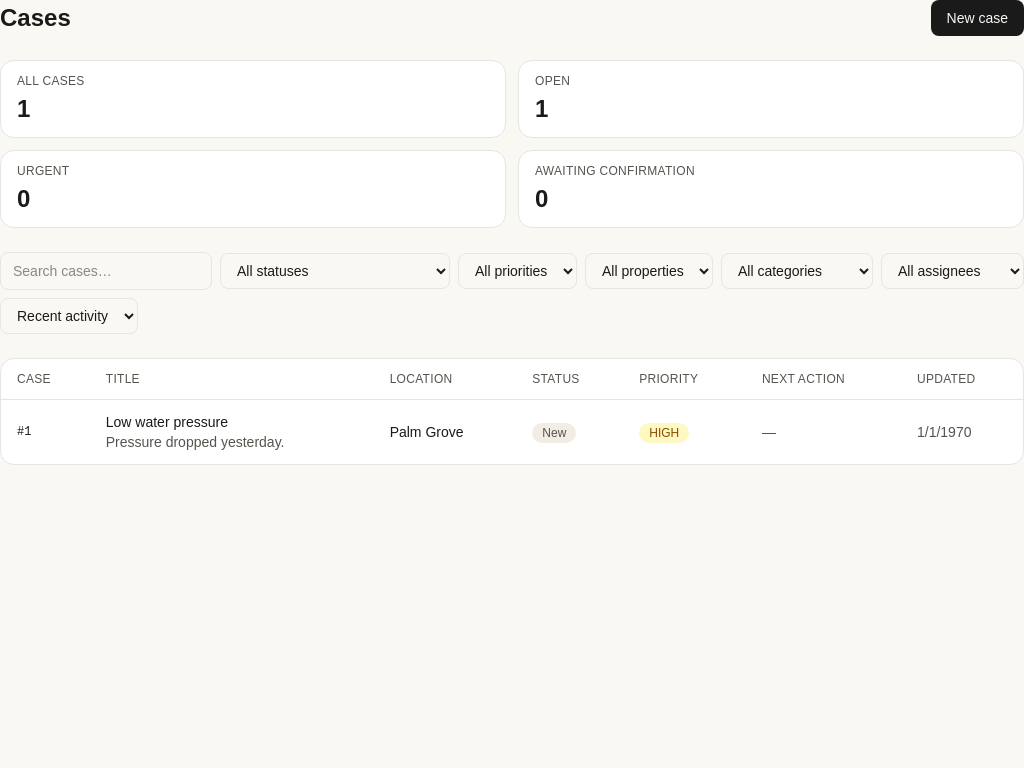
Test: CasesPage › opens the new-case dialog
Step 1. Click the button "New case" → (977, 18), box left=930, top=0, right=1023, bottom=36
(page scrolled)
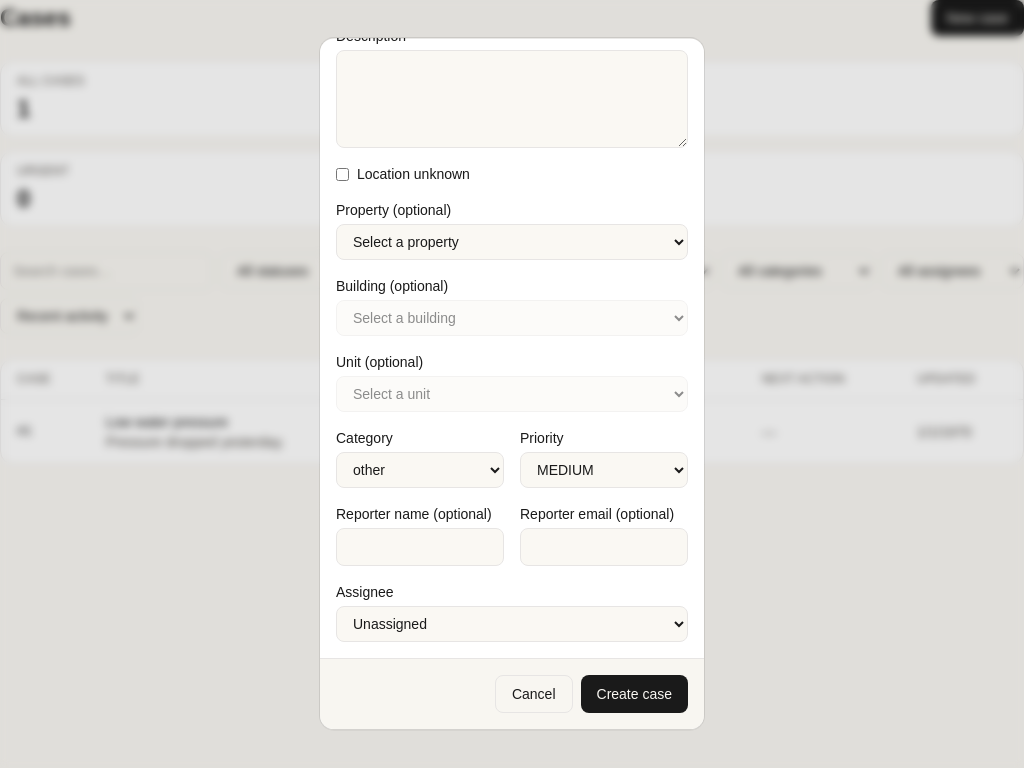
Check: the dialog is shown, box left=320, top=38, right=704, bottom=730
Check: the button "Create case" is shown, box left=580, top=675, right=688, bottom=713
